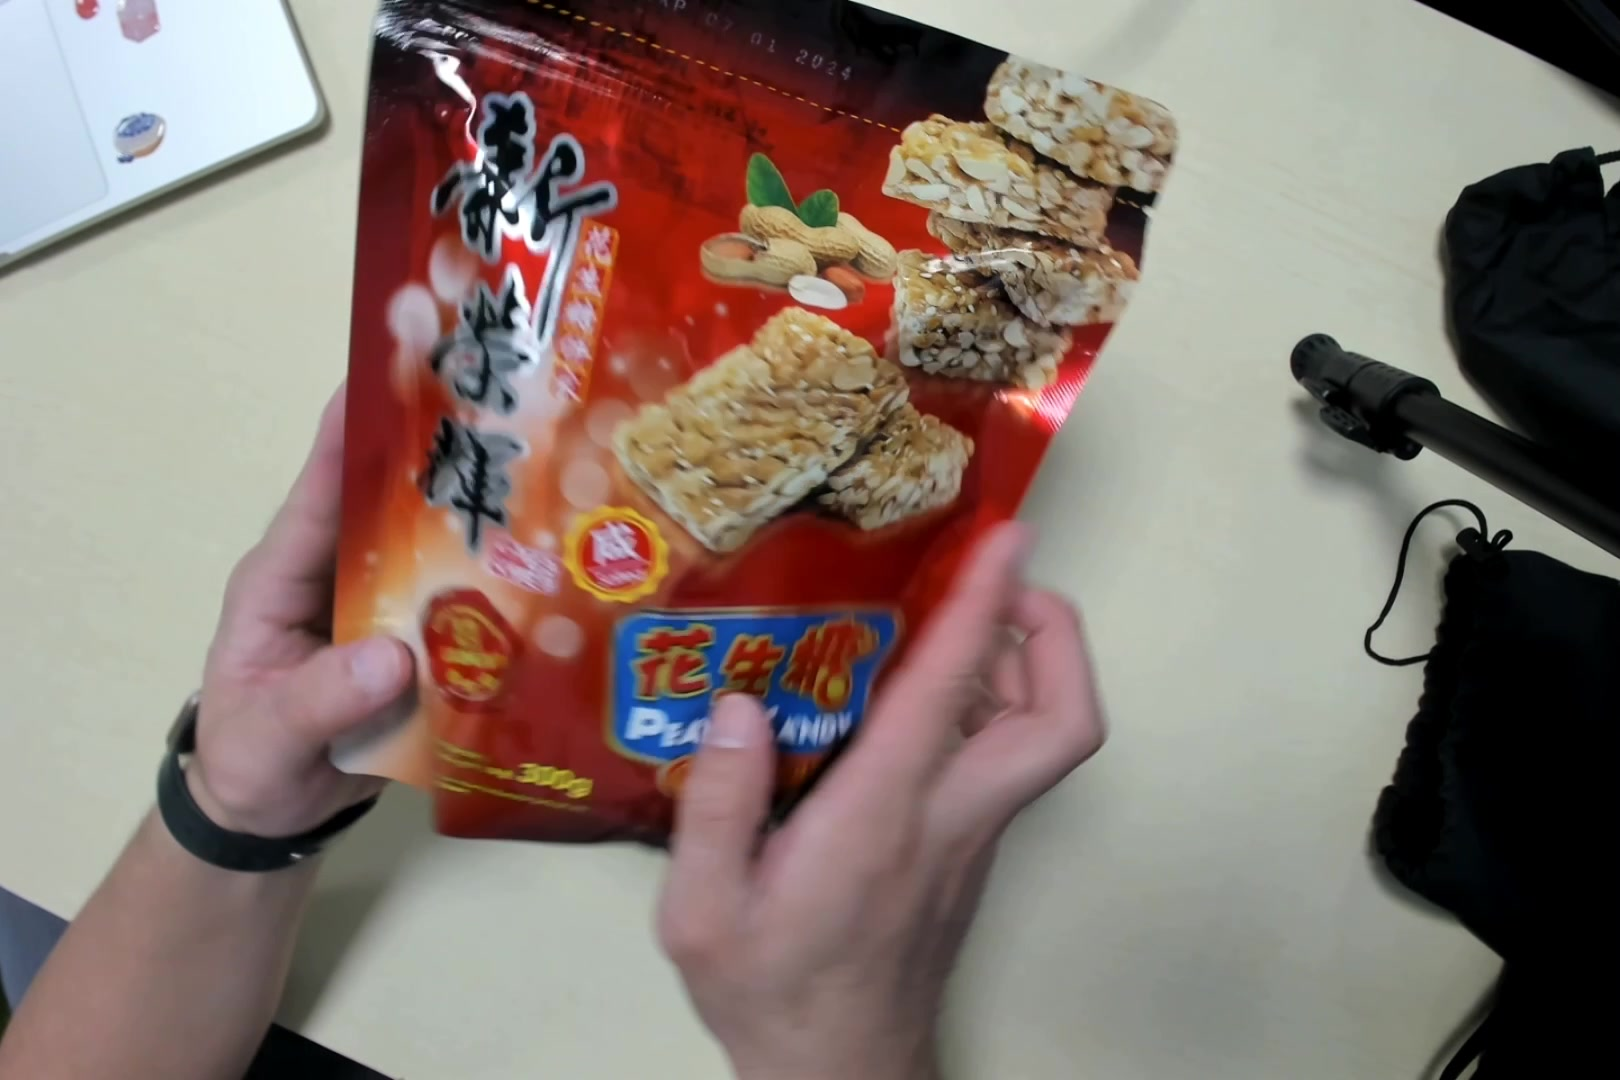SweetsChocolatesOthers_300-399g_NonHalal_NonHealthy: (331, 1, 1175, 851)
